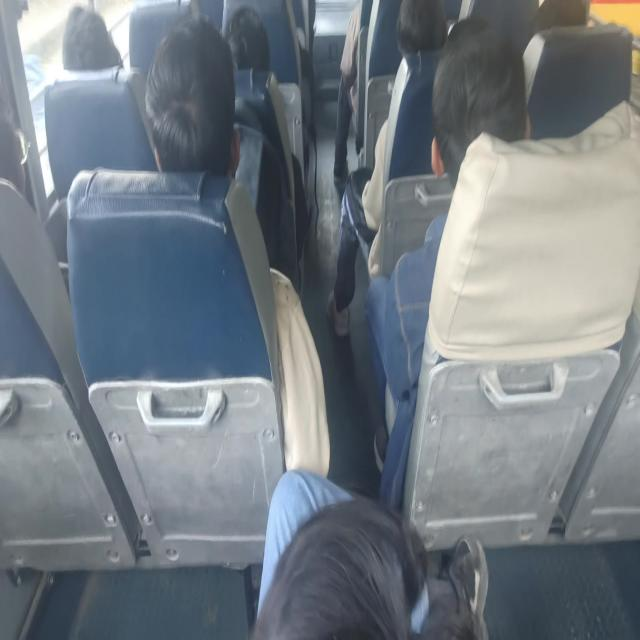person: (248, 509, 492, 640), (147, 31, 243, 178), (436, 29, 526, 182), (393, 0, 459, 74), (59, 0, 115, 83), (218, 3, 276, 81), (0, 102, 38, 205), (526, 0, 598, 47)
